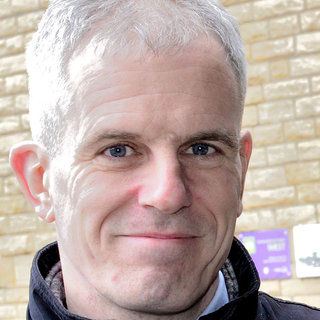eye: (90, 136, 154, 171), (173, 134, 227, 163)
